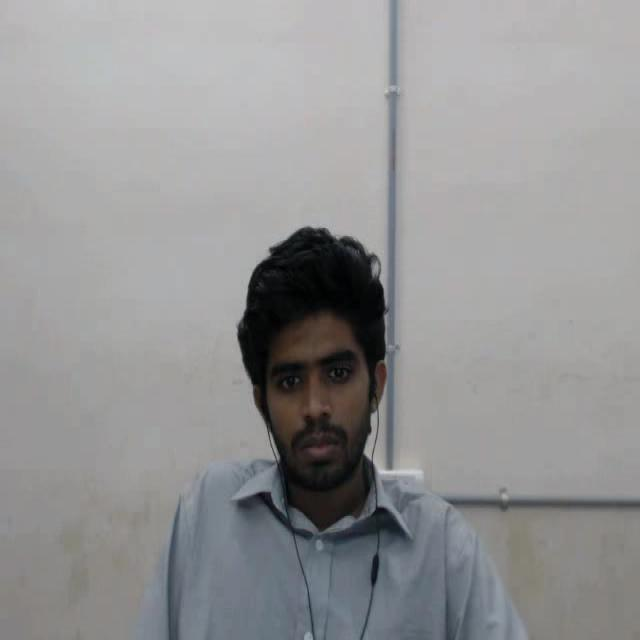Engaged: (221, 212, 414, 508)
